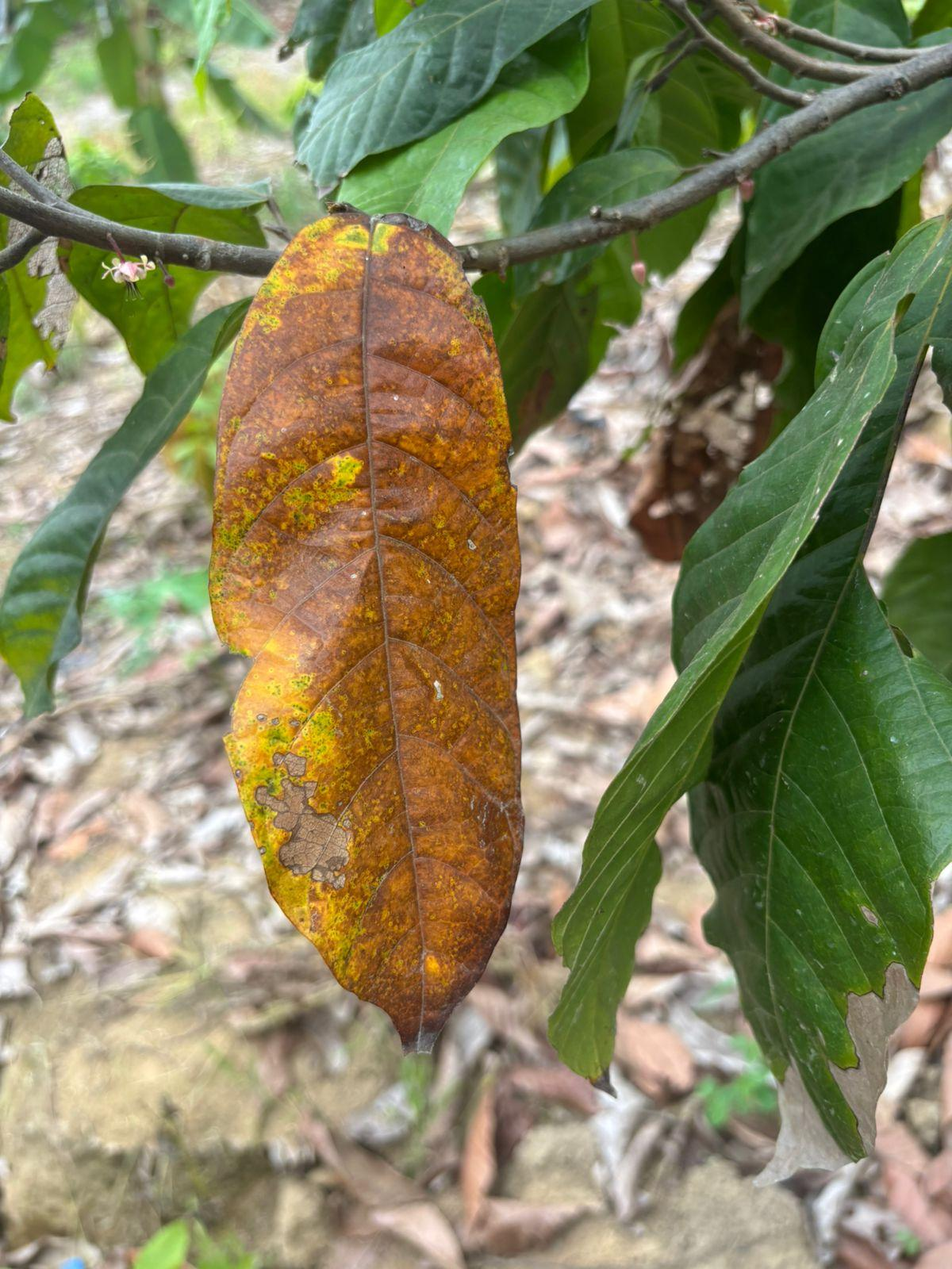deficienciia_fosforo: (209, 204, 522, 1050)
